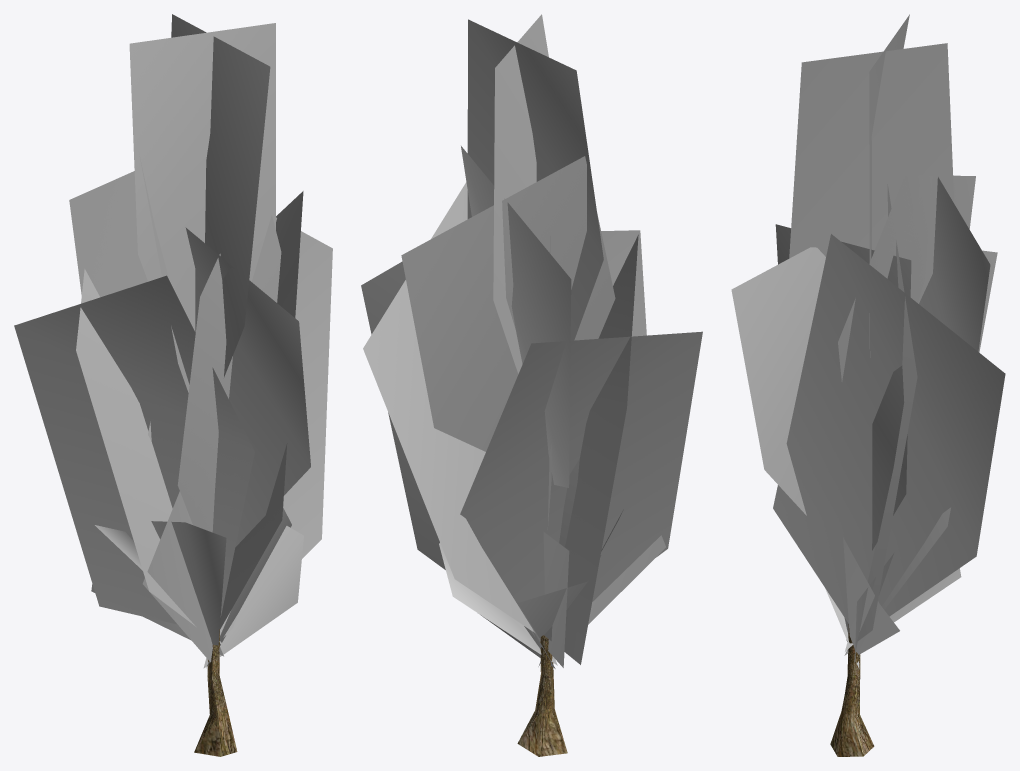
File: tree 6.FBX
The picture shows the model from 3 angles, left to right: view 1: azimuth 30°, elevation 25°; view 2: azimuth 150°, elevation 25°; view 3: azimuth 270°, elevation 25°; orthographic projection. The views are drawn at different scales.
Parts seen in each view (by area): view 1: MepTree10_69; view 2: MepTree10_69; view 3: MepTree10_69.
Part boxes in pixels (box(x1,y1,x2,y2)): MepTree10_69: box(14, 14, 332, 756); MepTree10_69: box(361, 14, 702, 756); MepTree10_69: box(731, 14, 1005, 756).
Size of the model in its own units: 73.1 by 166 by 58.05.
